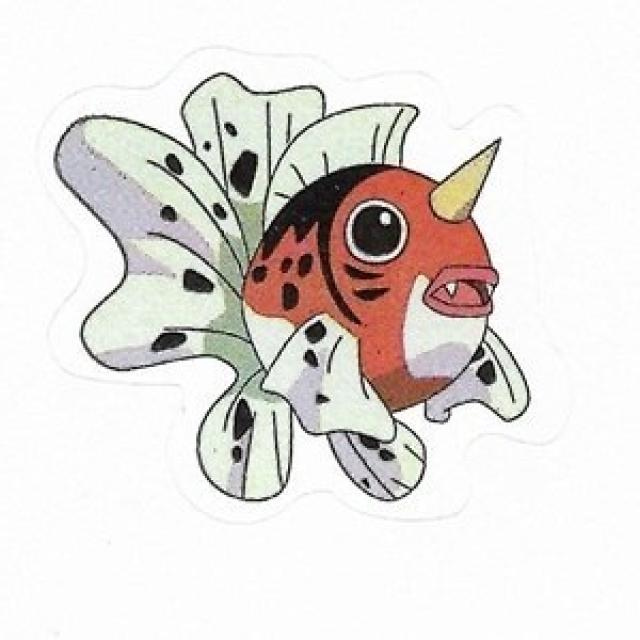Seaking: (55, 81, 518, 499)
